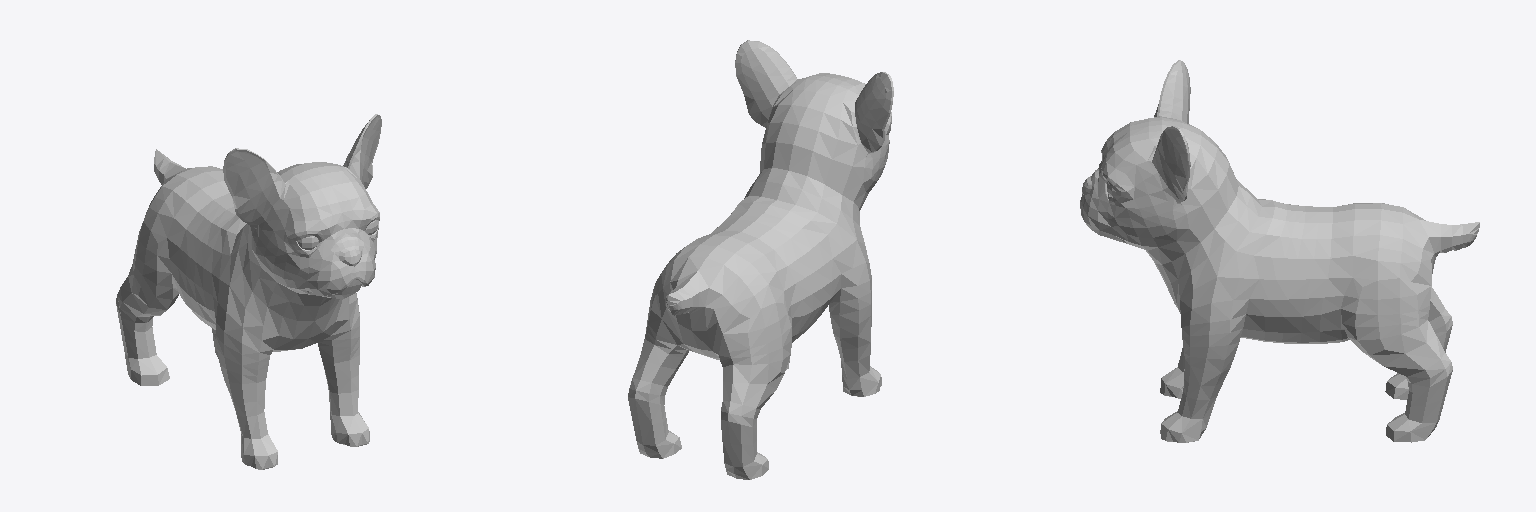
File: dog.obj
3 views of the same model, side by side, from view 1: azimuth 30°, elevation 25°; view 2: azimuth 150°, elevation 25°; view 3: azimuth 270°, elevation 25° (orthographic).
Parts seen in each view (by area): view 1: Object_2_Object_0; view 2: Object_2_Object_0; view 3: Object_2_Object_0.
Part boxes in pixels (x1,y1,x2,y2): Object_2_Object_0: (116, 114, 381, 469); Object_2_Object_0: (628, 40, 893, 479); Object_2_Object_0: (1080, 60, 1479, 442).
Size of the model in its own units: 6.35 by 12.39 by 13.92.